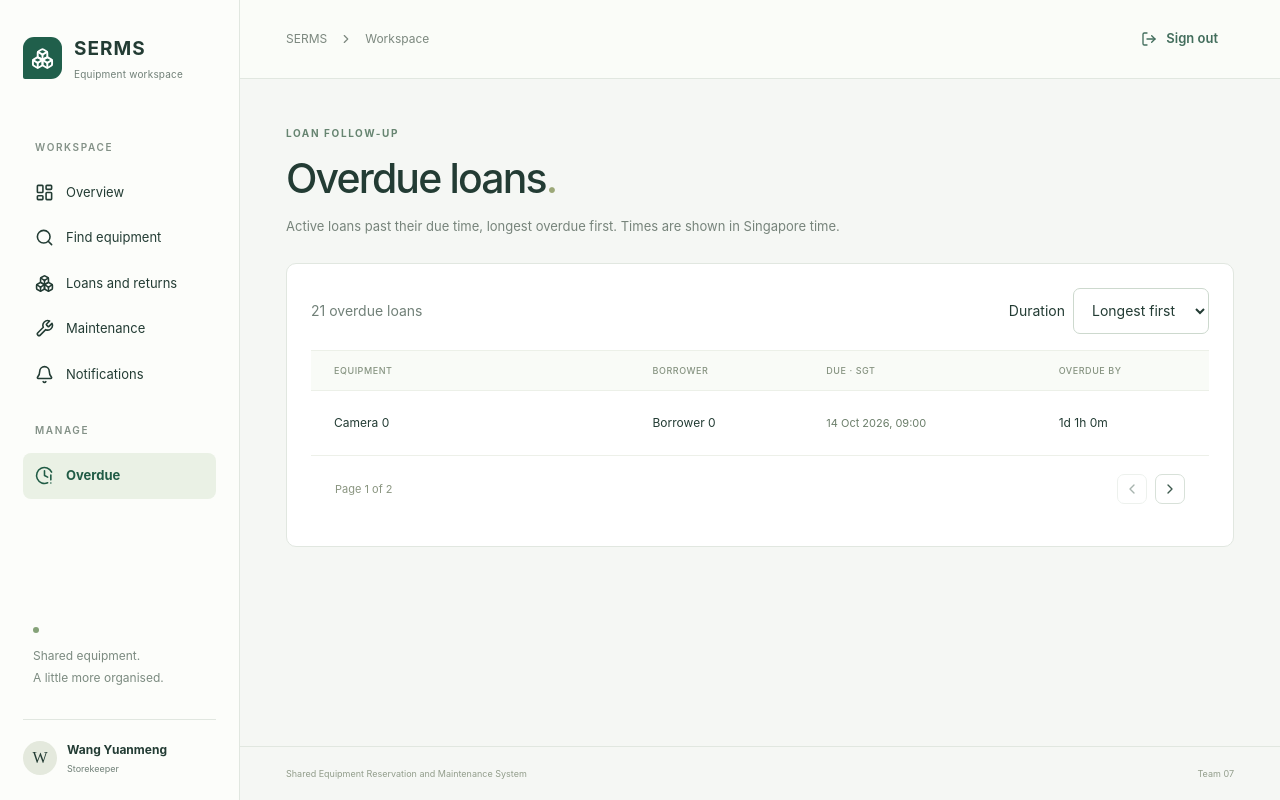
it: overdue view › requests the next server page and resets paging when the order changes
Expected: the text "Camera 0" is shown, [311,391,630,456]
Click the button named "next page" at (1170, 489), box [1155,474,1185,504]
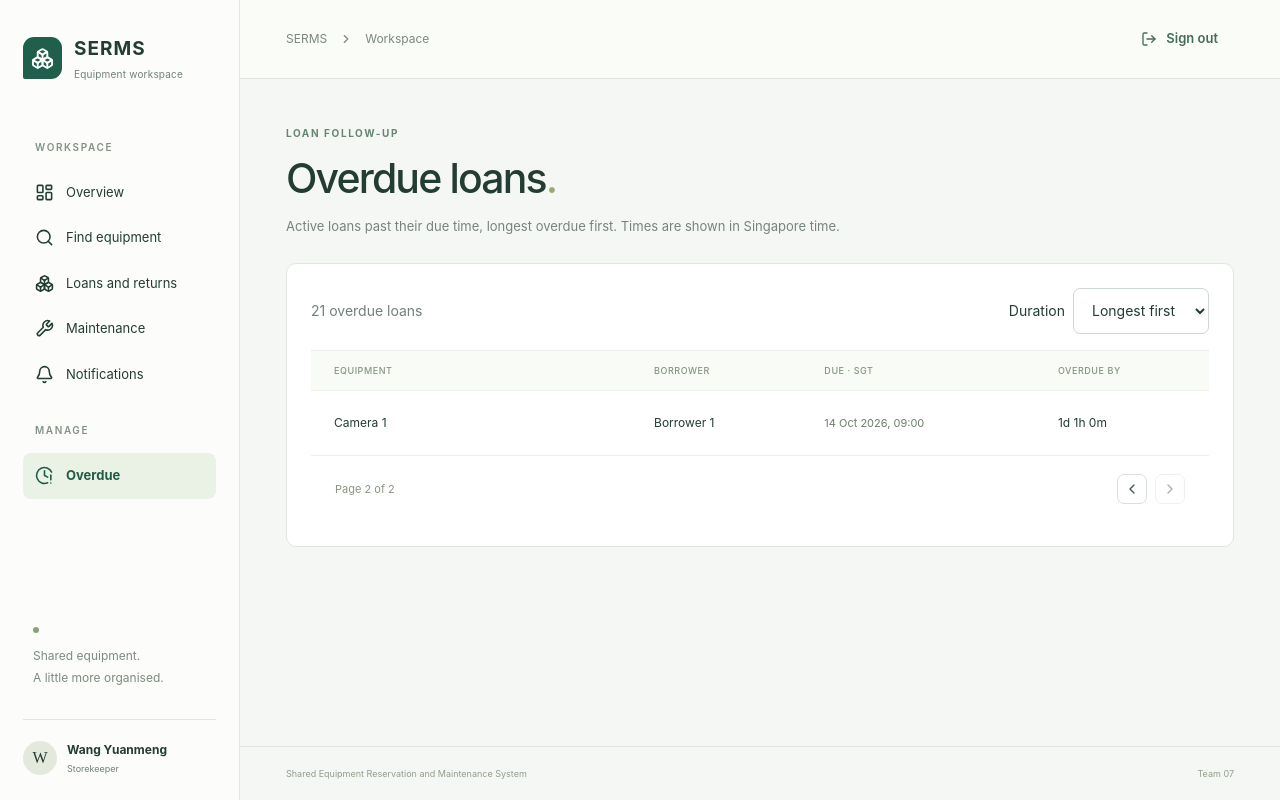
Now the text "Camera 1" is shown, box [311,391,631,456]
Select "Shortest first" in the dropdown named "Sort by overdue duration" at (1141, 310), box [1073,288,1209,334]
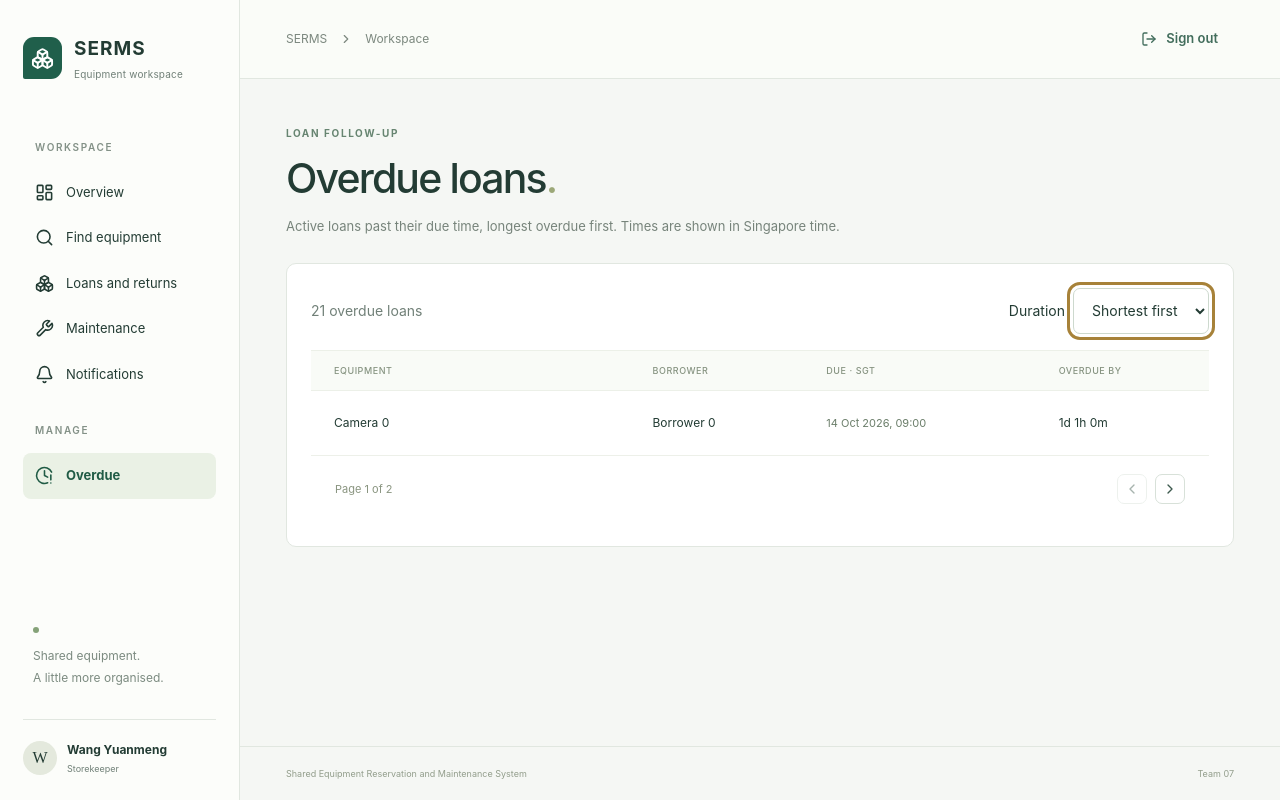
Now the text "Camera 0" is shown, box [311,391,630,456]
